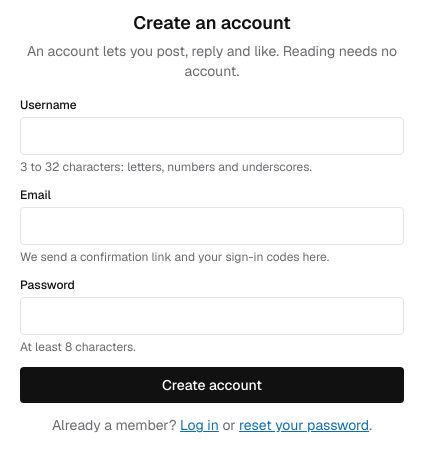
Test case: Register › shows the API refusal against the field it belongs to
Step 1. Type "newmember" into the field labelled "Username" → (212, 136), box top-left (20, 117), bottom-right (404, 155)
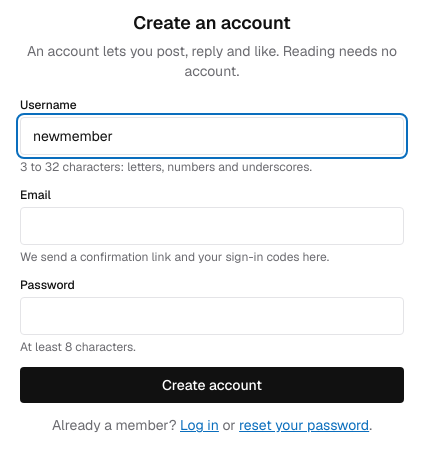
Step 2. Type "newmember@example.com" into the field labelled "Email" → (212, 226), box top-left (20, 207), bottom-right (404, 245)
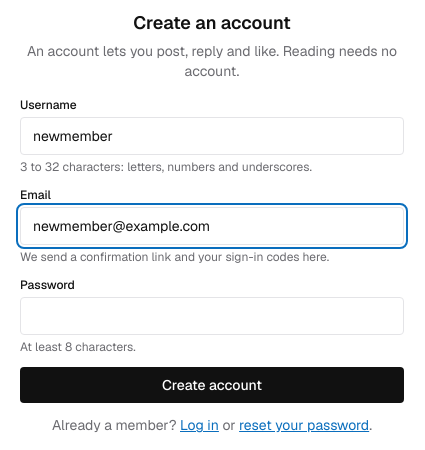
Step 3. Type "Password123!" into the password field labelled "Password" → (212, 316), box top-left (20, 297), bottom-right (404, 335)
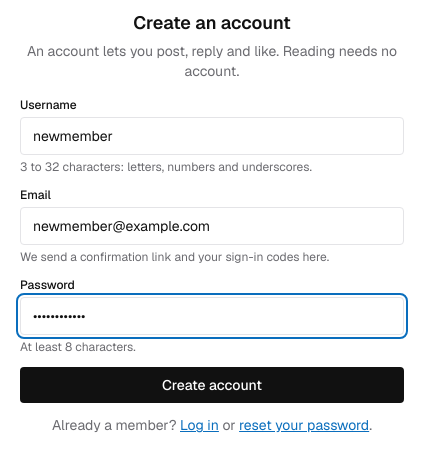
Step 4. Click the button "Create account" → (212, 385), box top-left (20, 367), bottom-right (404, 403)
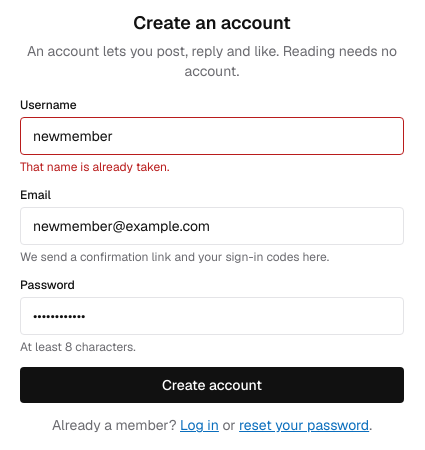
Expected: the text "That name is already taken." is shown, top-left (20, 159), bottom-right (170, 175)
